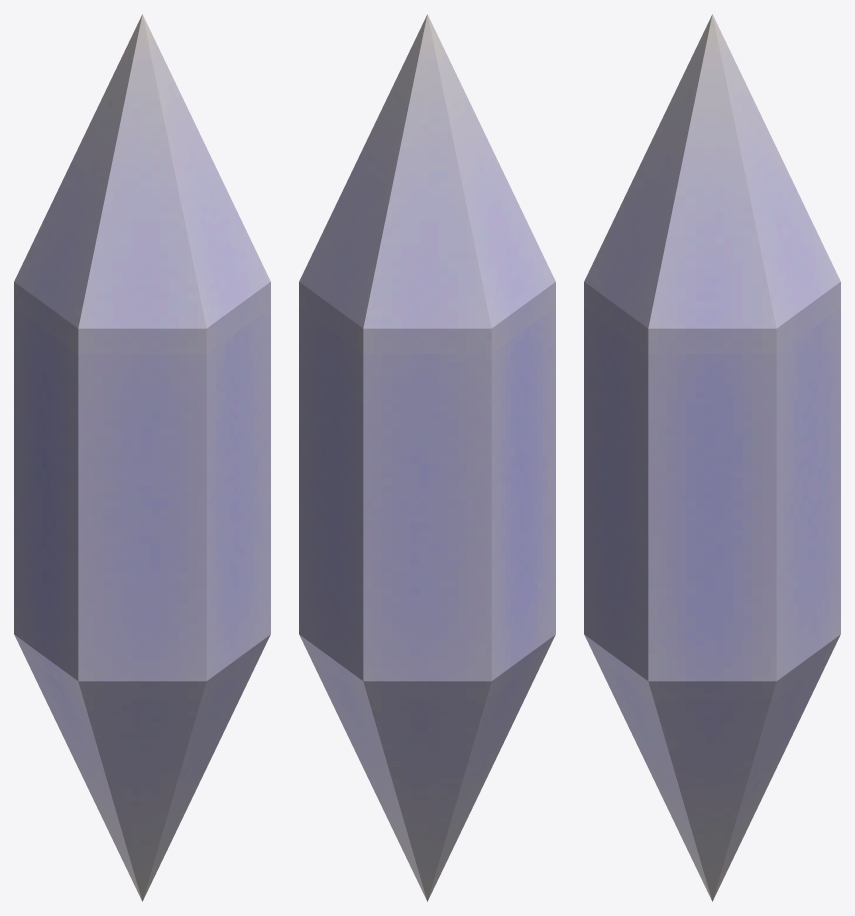
Rendered from MoongemCrystal.gltf.
The picture shows the model from 3 angles, left to right: view 1: azimuth 30°, elevation 25°; view 2: azimuth 150°, elevation 25°; view 3: azimuth 270°, elevation 25°; orthographic projection.
Parts seen in each view (by area): view 1: cylinder; view 2: cylinder; view 3: cylinder.
Part boxes in pixels (x1=…): cylinder: x1=14, y1=14, x2=270, y2=901; cylinder: x1=299, y1=14, x2=555, y2=901; cylinder: x1=584, y1=14, x2=840, y2=901.
Size of the model in its own units: 0.2 by 0.8812 by 0.2309.
1 material, 1 textured.
